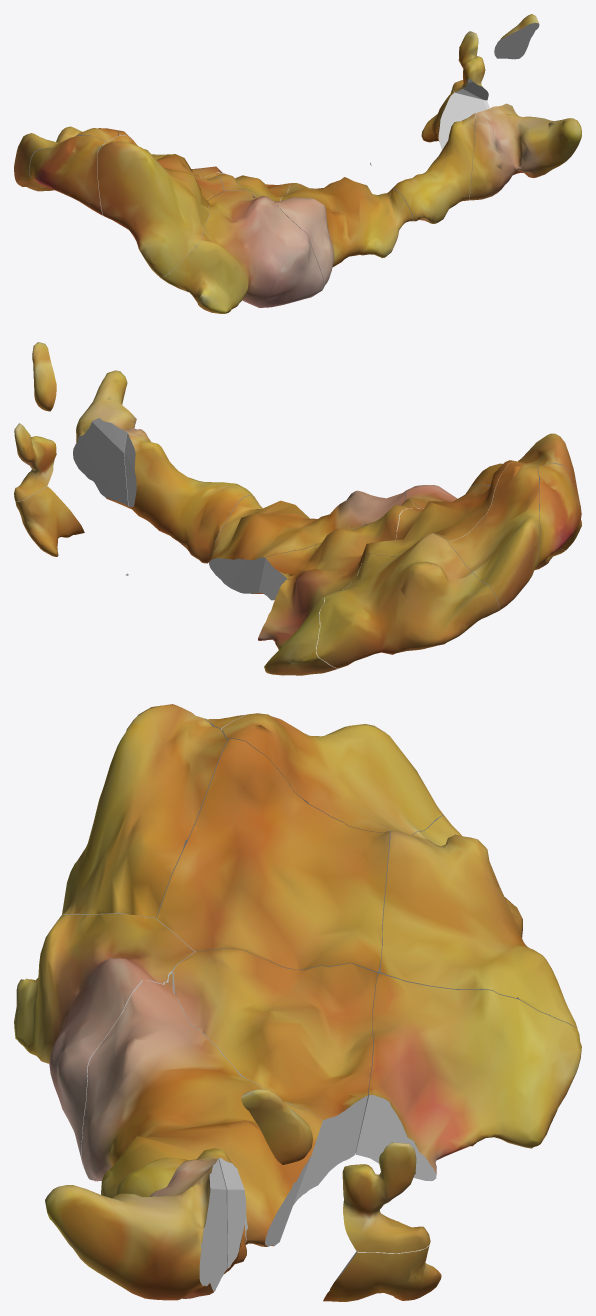
Rendered from plaque-explosion.fbx.
3 renders of one model, top to bottom at view 1: azimuth 30°, elevation 25°; view 2: azimuth 150°, elevation 25°; view 3: azimuth 270°, elevation 25°, orthographic. The views are drawn at different scales.
Visible parts, largest first — view 1: Plaque_cell.014, Plaque_cell.009, Plaque_cell.001, Plaque_cell.018, Plaque_cell.008, Plaque_cell.016, Plaque_cell.010, Plaque_cell, Plaque_cell.002, Plaque_cell.019, Plaque_cell.003, Plaque_cell.011; view 2: Plaque_cell.017, Plaque_cell.001, Plaque_cell.008, Plaque_cell, Plaque_cell.004, Plaque_cell.018, Plaque_cell.019, Plaque_cell.011, Plaque_cell.016, Plaque_cell.010, Plaque_cell.002, Plaque_cell.009 (+2 smaller); view 3: Plaque_cell.011, Plaque_cell.004, Plaque_cell.001, Plaque_cell.019, Plaque_cell.017, Plaque_cell.009, Plaque_cell.014, Plaque_cell.018, Plaque_cell, Plaque_cell.002, Plaque_cell.010, Plaque_cell.008 (+1 smaller).
Part boxes in pixels (bbox=[...]): Plaque_cell.014: bbox=[160, 190, 323, 313]; Plaque_cell.009: bbox=[97, 135, 211, 277]; Plaque_cell.001: bbox=[253, 177, 412, 290]; Plaque_cell.018: bbox=[469, 103, 581, 200]; Plaque_cell.008: bbox=[390, 113, 475, 223]; Plaque_cell.016: bbox=[29, 135, 105, 215]; Plaque_cell.010: bbox=[421, 89, 489, 149]; Plaque_cell: bbox=[14, 128, 118, 187]; Plaque_cell.002: bbox=[452, 31, 488, 100]; Plaque_cell.019: bbox=[187, 162, 292, 201]; Plaque_cell.003: bbox=[494, 14, 539, 59]; Plaque_cell.011: bbox=[117, 130, 224, 236]; Plaque_cell.017: bbox=[316, 533, 498, 668]; Plaque_cell.001: bbox=[209, 490, 405, 593]; Plaque_cell.008: bbox=[124, 433, 254, 563]; Plaque_cell: bbox=[447, 461, 539, 610]; Plaque_cell.004: bbox=[258, 563, 361, 675]; Plaque_cell.018: bbox=[73, 370, 147, 508]; Plaque_cell.019: bbox=[258, 499, 419, 600]; Plaque_cell.011: bbox=[362, 460, 515, 560]; Plaque_cell.016: bbox=[536, 463, 581, 566]; Plaque_cell.010: bbox=[15, 486, 84, 556]; Plaque_cell.002: bbox=[14, 423, 56, 501]; Plaque_cell.009: bbox=[471, 433, 581, 550]; Plaque_cell.011: bbox=[156, 738, 389, 974]; Plaque_cell.004: bbox=[355, 973, 581, 1180]; Plaque_cell.001: bbox=[81, 973, 322, 1246]; Plaque_cell.019: bbox=[172, 948, 377, 1205]; Plaque_cell.017: bbox=[378, 815, 577, 1028]; Plaque_cell.009: bbox=[62, 704, 227, 918]; Plaque_cell.014: bbox=[14, 913, 194, 1181]; Plaque_cell.018: bbox=[45, 1158, 227, 1300]; Plaque_cell: bbox=[221, 713, 443, 835]; Plaque_cell.002: bbox=[342, 1142, 430, 1253]; Plaque_cell.010: bbox=[323, 1216, 441, 1301]; Plaque_cell.008: bbox=[115, 1148, 246, 1273].
Bounding box in the file's own units: 273 × 101 × 156.
